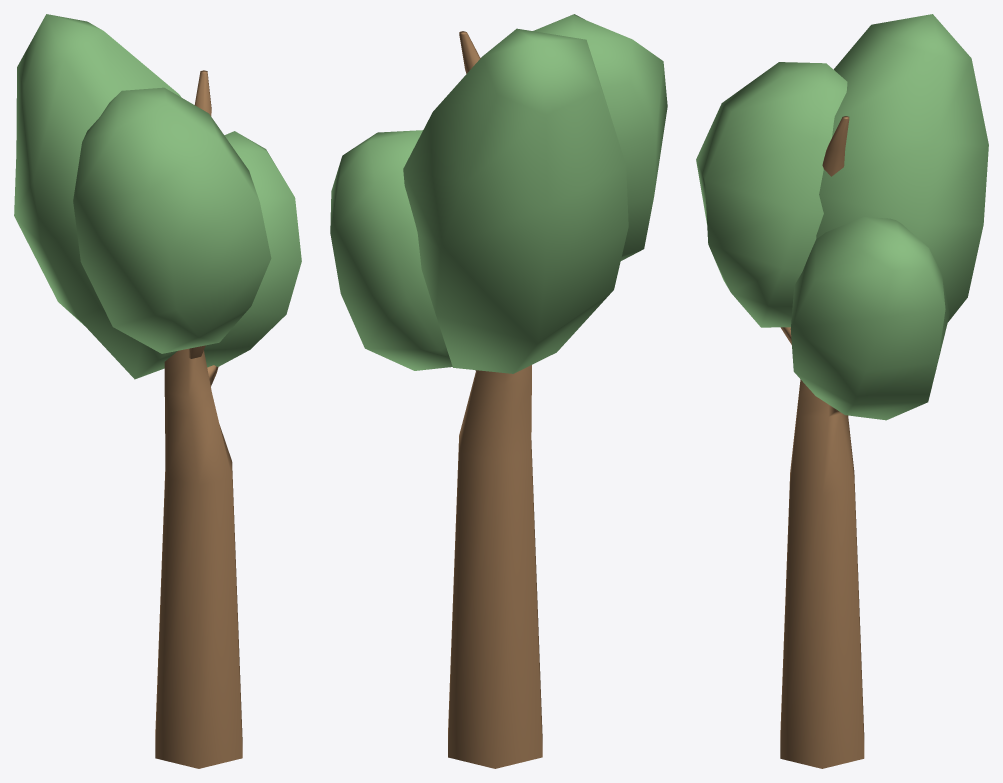
The model's file is Arvore2.fbx.
The picture shows the model from 3 angles, left to right: view 1: azimuth 30°, elevation 25°; view 2: azimuth 150°, elevation 25°; view 3: azimuth 270°, elevation 25°; orthographic projection. The views are drawn at different scales.
Parts seen in each view (by area): view 1: pSphere2, Tronco, pSphere3, pSphere1; view 2: pSphere3, Tronco, pSphere1, pSphere2; view 3: pSphere3, Tronco, pSphere2, pSphere1.
Part boxes in pixels (x1,y1,x2,y2): pSphere2: [73, 87, 271, 353]; Tronco: [155, 70, 242, 768]; pSphere3: [14, 14, 181, 379]; pSphere1: [204, 131, 301, 367]; pSphere3: [403, 28, 628, 373]; Tronco: [448, 31, 542, 768]; pSphere1: [330, 130, 452, 370]; pSphere2: [533, 14, 667, 260]; pSphere3: [816, 14, 988, 321]; Tronco: [780, 116, 864, 768]; pSphere2: [696, 62, 847, 327]; pSphere1: [790, 217, 949, 420].
Size of the model in its own units: 6.03 by 15.65 by 6.03.
